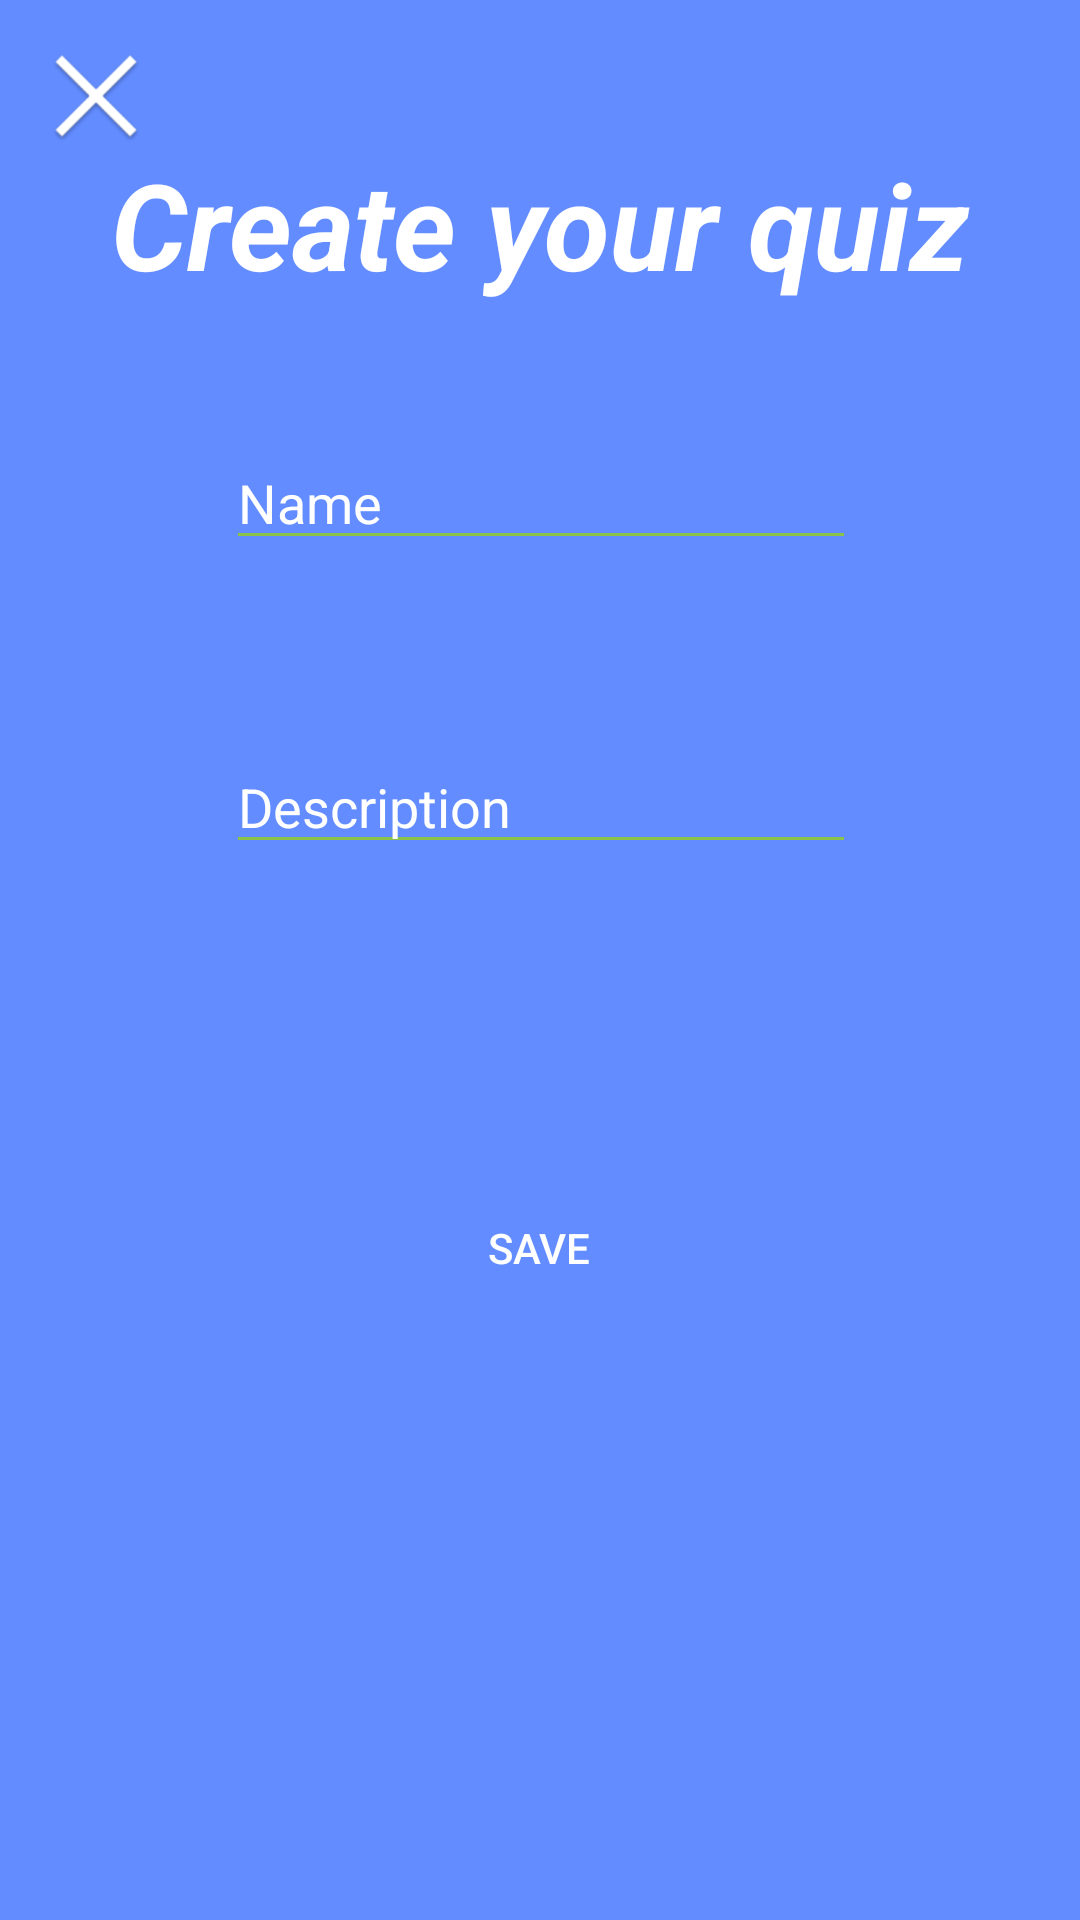

Point at icon controls on the screen. Image size 1080×1920, points as [x,y].
exit: [96,96]
